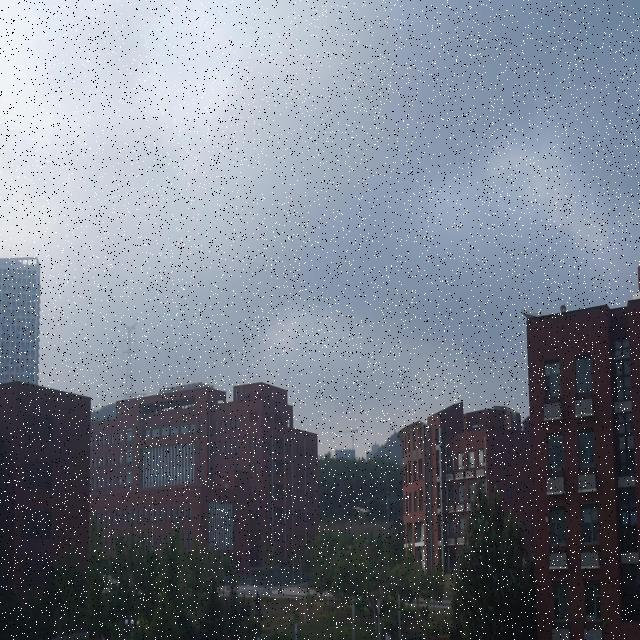UAV: (352, 506, 370, 520)
